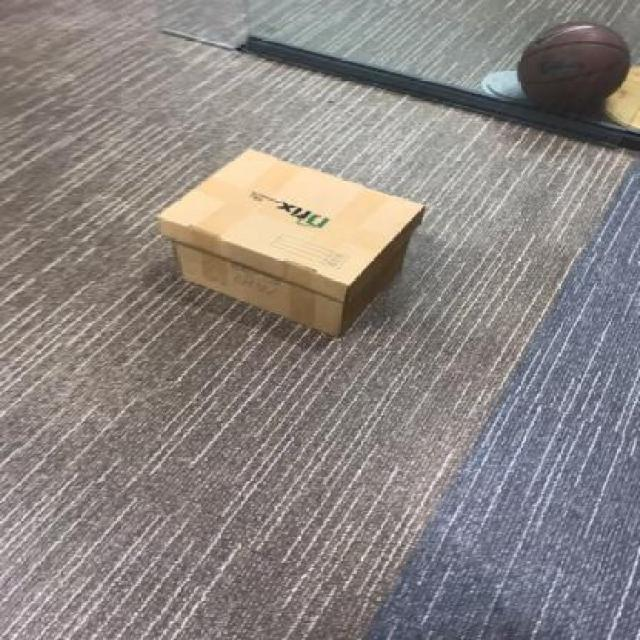box: (162, 148, 420, 336)
